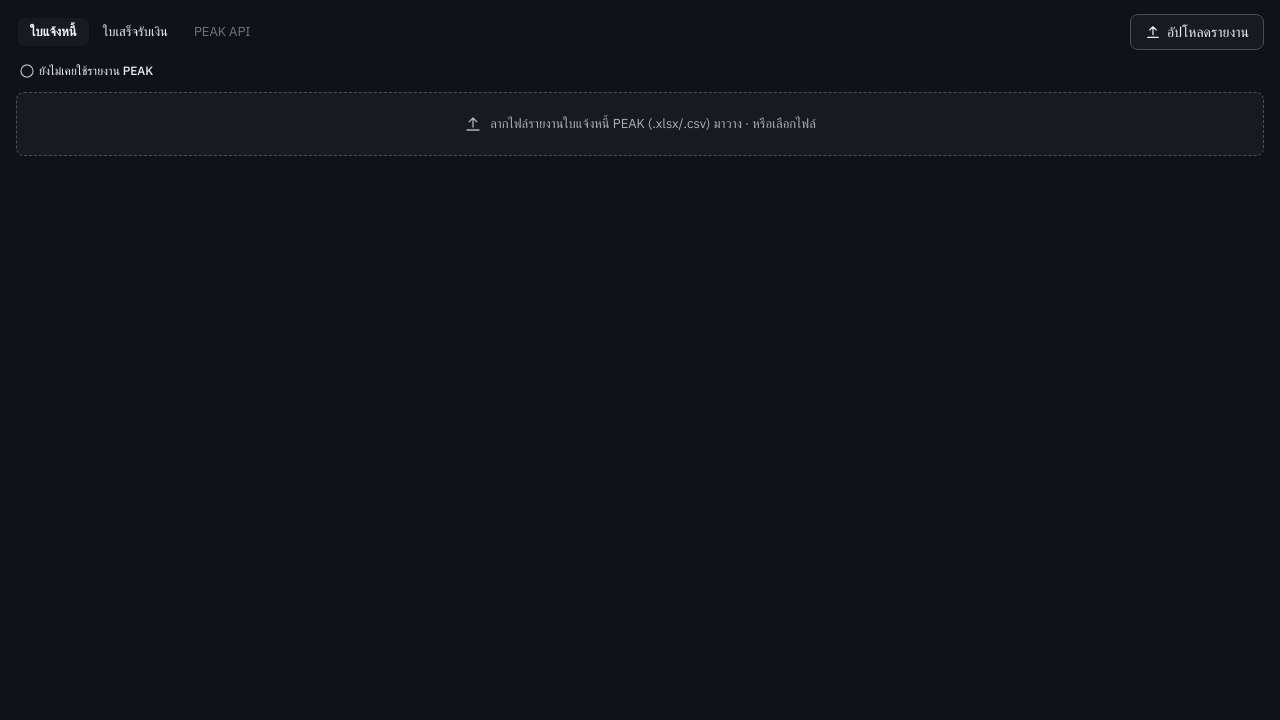
Scenario: the two named uploads (D01) › lists the unmatched receipts of a run read back from the server, ready to link
This screenshot has width=1280, height=720.
Click the radio button labelled "ใบเสร็จรับเงิน": (135, 32) [91,18,180,46]
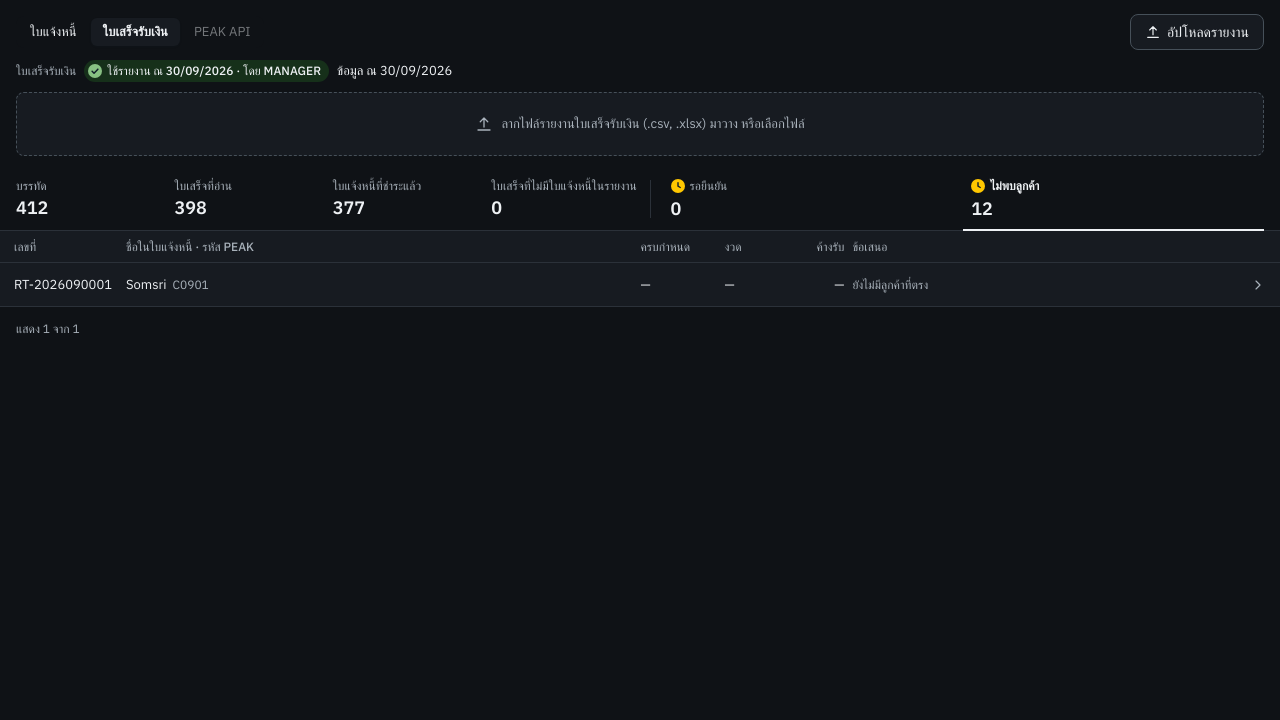
Now the text "RT-2026090001" is shown, box [14,276,118,294]
Click the button "RT-2026090001": (640, 285) [0,263,1279,307]
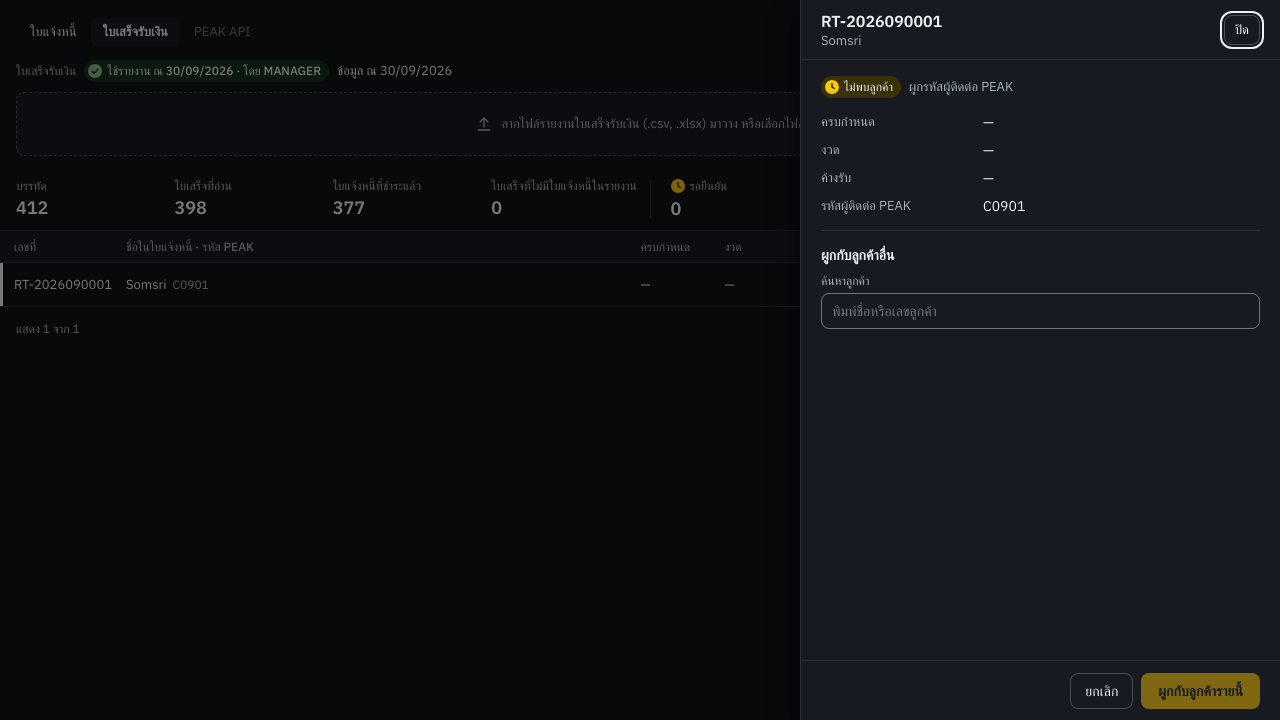
Now the dialog "RT-2026090001" is shown
